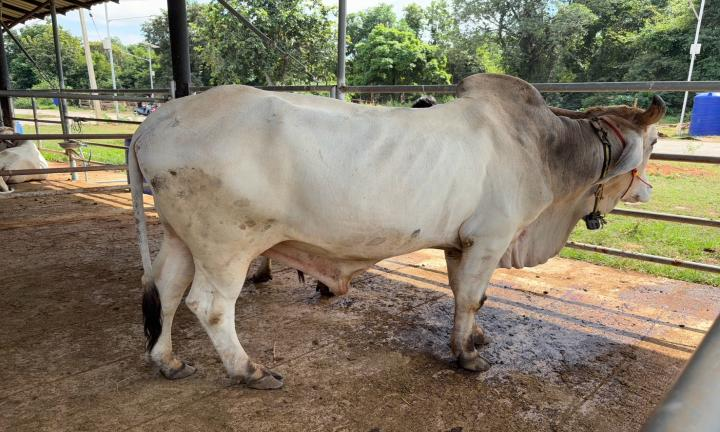Brahman: (129, 73, 665, 389)
